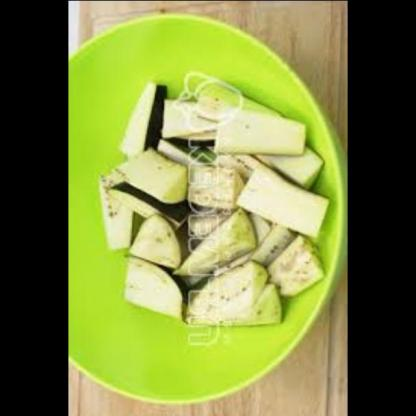eggplant: (96, 78, 324, 323)
